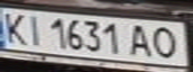1: (100, 20, 127, 55), (45, 16, 69, 50)
3: (81, 18, 103, 53)
6: (63, 16, 84, 52)
A: (124, 21, 157, 57)
I: (21, 12, 48, 47)
K: (0, 9, 30, 46)
O: (145, 25, 184, 60)
